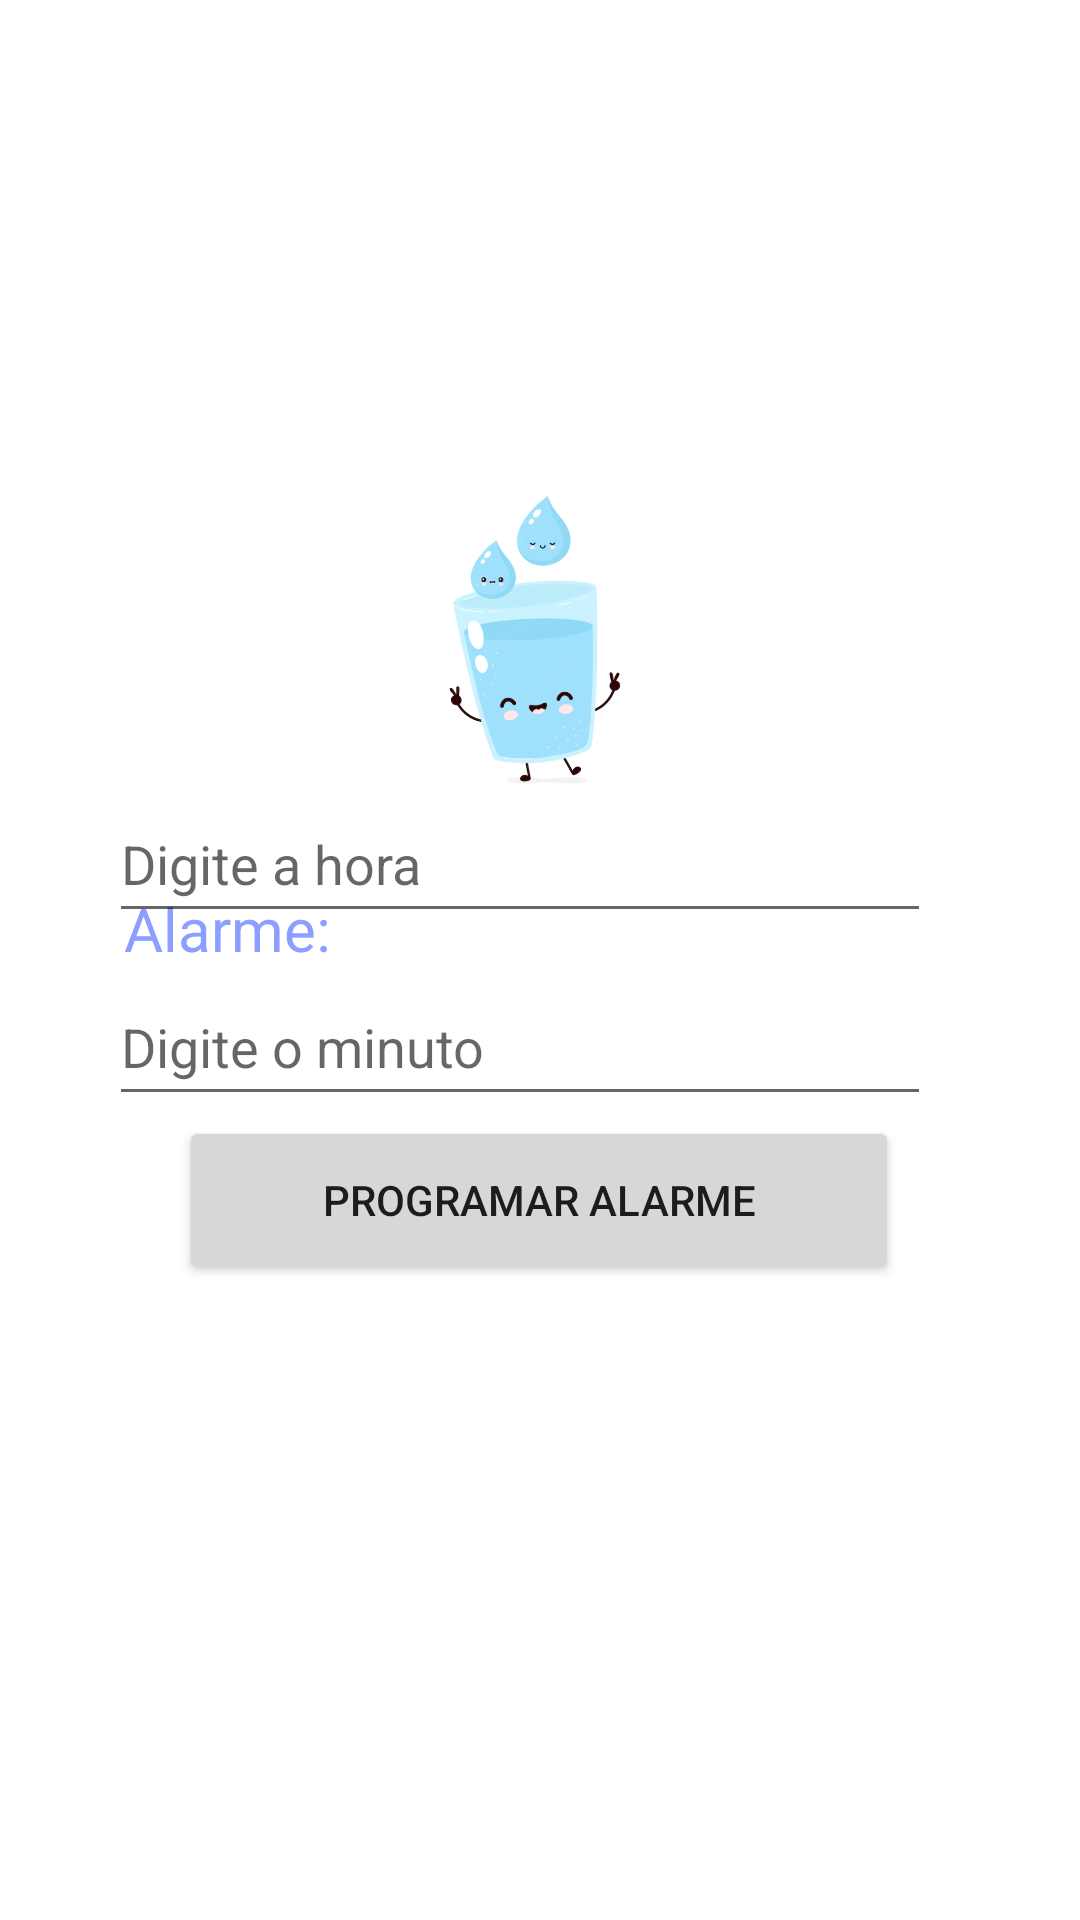

Screen size 1080 x 1920. Icon name, then its center in pixels as point (x, y):
copo: point (534, 639)
